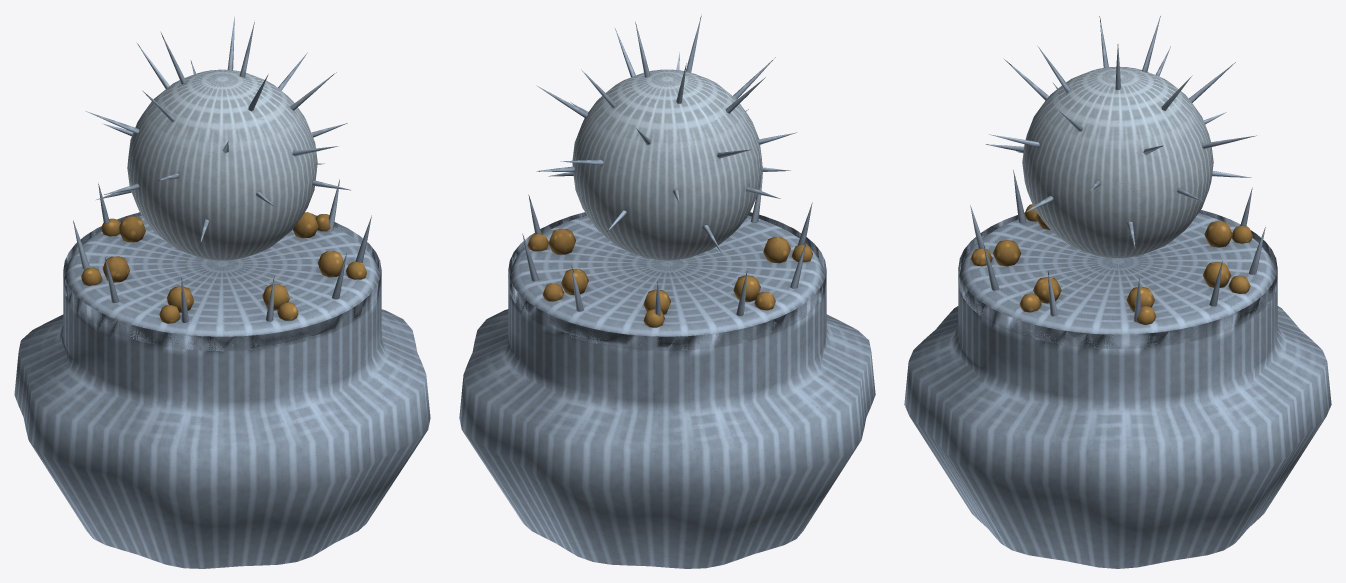
File: landmark_b1_heliozoan.glb
3 views of the same model, side by side, from view 1: azimuth 30°, elevation 25°; view 2: azimuth 150°, elevation 25°; view 3: azimuth 270°, elevation 25° (orthographic).
Visible parts, largest first — view 1: LandmarkB1Heliozoan, Growth_Beads, Growth_Needles; view 2: LandmarkB1Heliozoan, Growth_Beads, Growth_Needles; view 3: LandmarkB1Heliozoan, Growth_Beads, Growth_Needles.
Part boxes in pixels (x1,y1,x2,y2): LandmarkB1Heliozoan: (14,16,430,568); Growth_Beads: (81,212,366,323); Growth_Needles: (73,179,371,322); LandmarkB1Heliozoan: (459,16,875,568); Growth_Beads: (527,217,812,327); Growth_Needles: (522,172,812,316); LandmarkB1Heliozoan: (904,16,1331,568); Growth_Beads: (970,204,1253,324); Growth_Needles: (970,170,1265,322).
Size of the model in its own units: 5.36 by 6.84 by 5.36.
4 materials, 4 textured.
